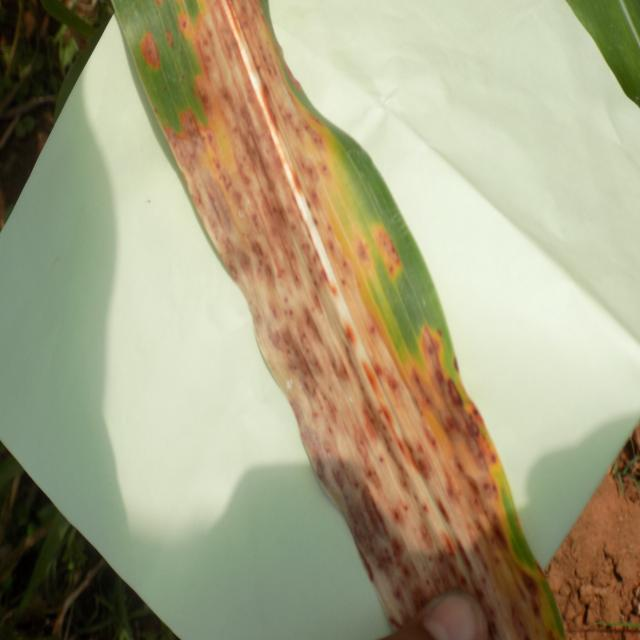millet_rust: (115, 0, 564, 639)
